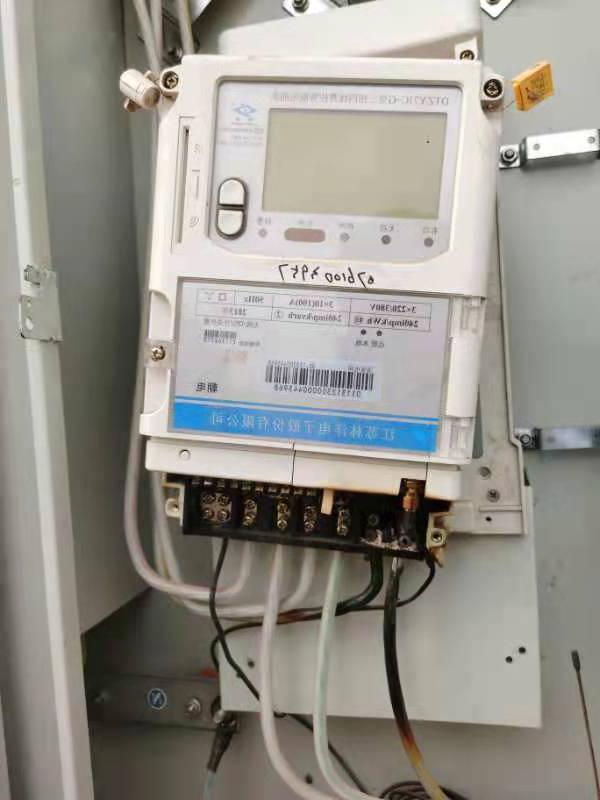digital: (140, 49, 500, 467)
